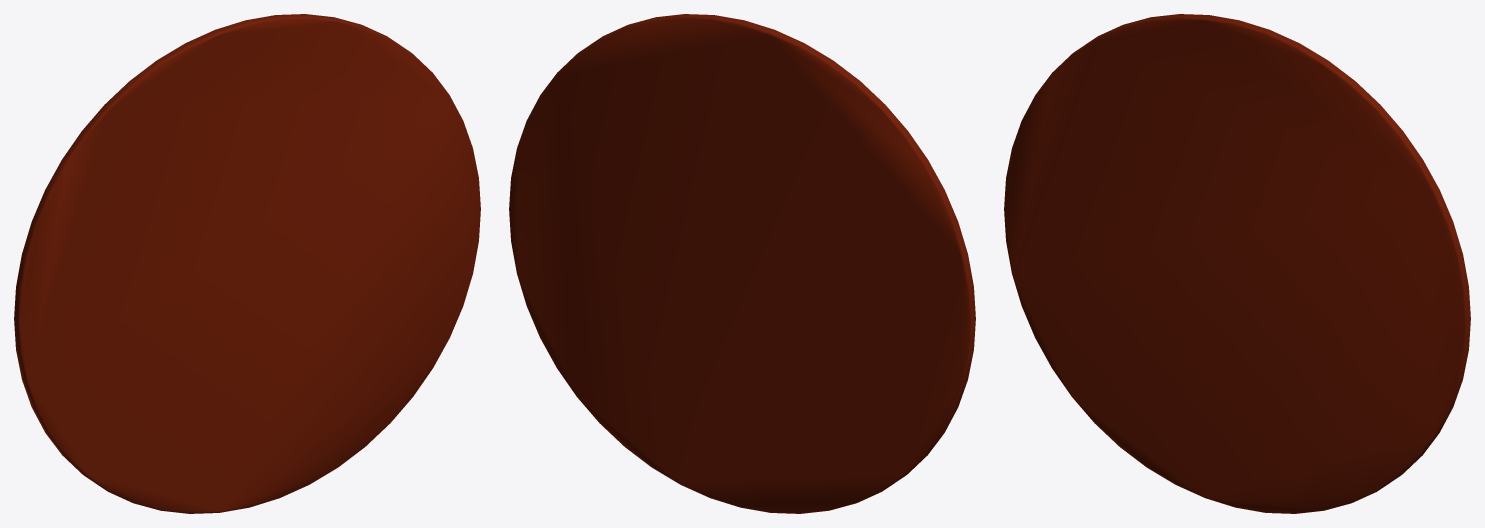
The model's file is loot-bag-golddark.obj.
3 renders of one model, left to right at view 1: azimuth 30°, elevation 25°; view 2: azimuth 150°, elevation 25°; view 3: azimuth 330°, elevation 25°, orthographic.
Visible parts, largest first — view 1: GoldDark; view 2: GoldDark; view 3: GoldDark.
Boxes of the visible parts, box(x1,y1,x2,y2) form: GoldDark: box(14, 14, 480, 513); GoldDark: box(509, 14, 975, 513); GoldDark: box(1004, 14, 1470, 513).
Size of the model in its own units: 0.907 by 0.907 by 0.0191.
